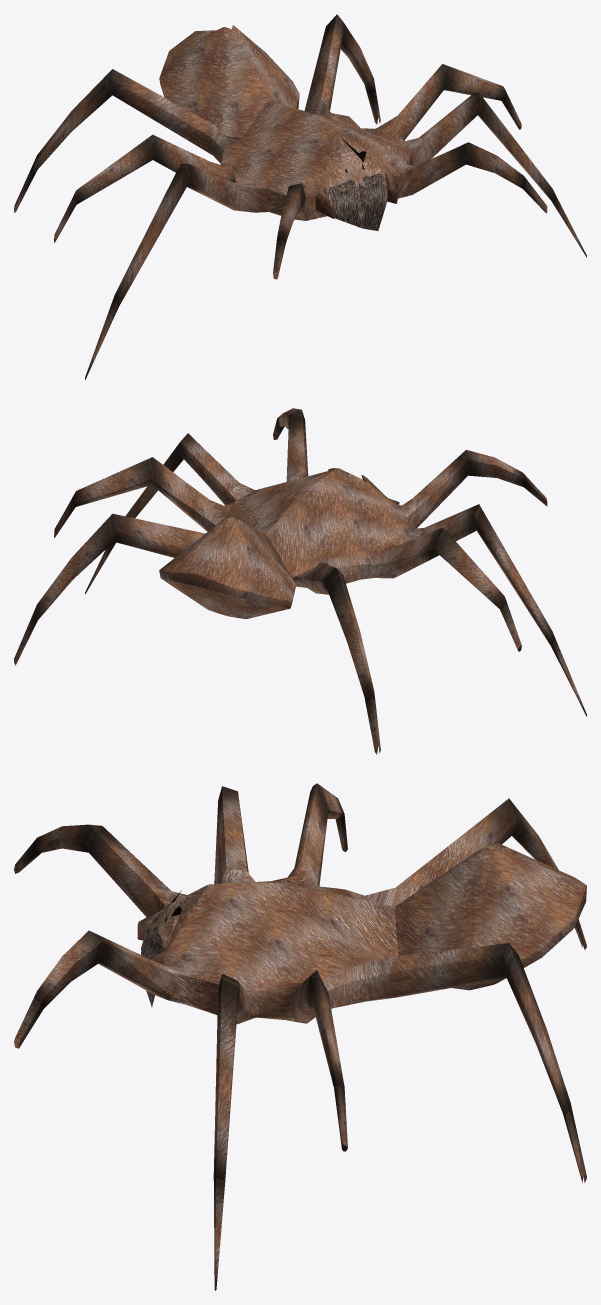
Rendered from spider 1net.fbx.
The picture shows the model from 3 angles, top to bottom: view 1: azimuth 30°, elevation 25°; view 2: azimuth 150°, elevation 25°; view 3: azimuth 270°, elevation 25°; orthographic projection. The views are drawn at different scales.
Parts seen in each view (by area): view 1: spider; view 2: spider; view 3: spider.
Part boxes in pixels (x1,y1,x2,y2): spider: (14,14,586,379); spider: (14,408,586,754); spider: (14,783,586,1290).
Bounding box in the file's own units: 325 × 133 × 244.
Materials: 1 (1 with a texture image).
